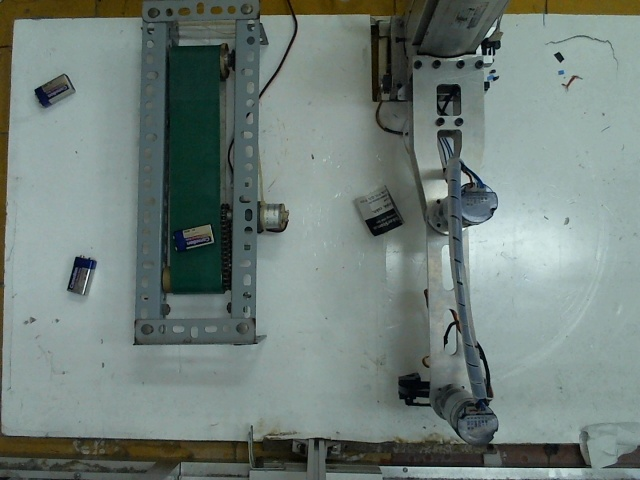battery: (68, 245, 100, 294), (33, 76, 77, 109), (174, 222, 218, 251)
